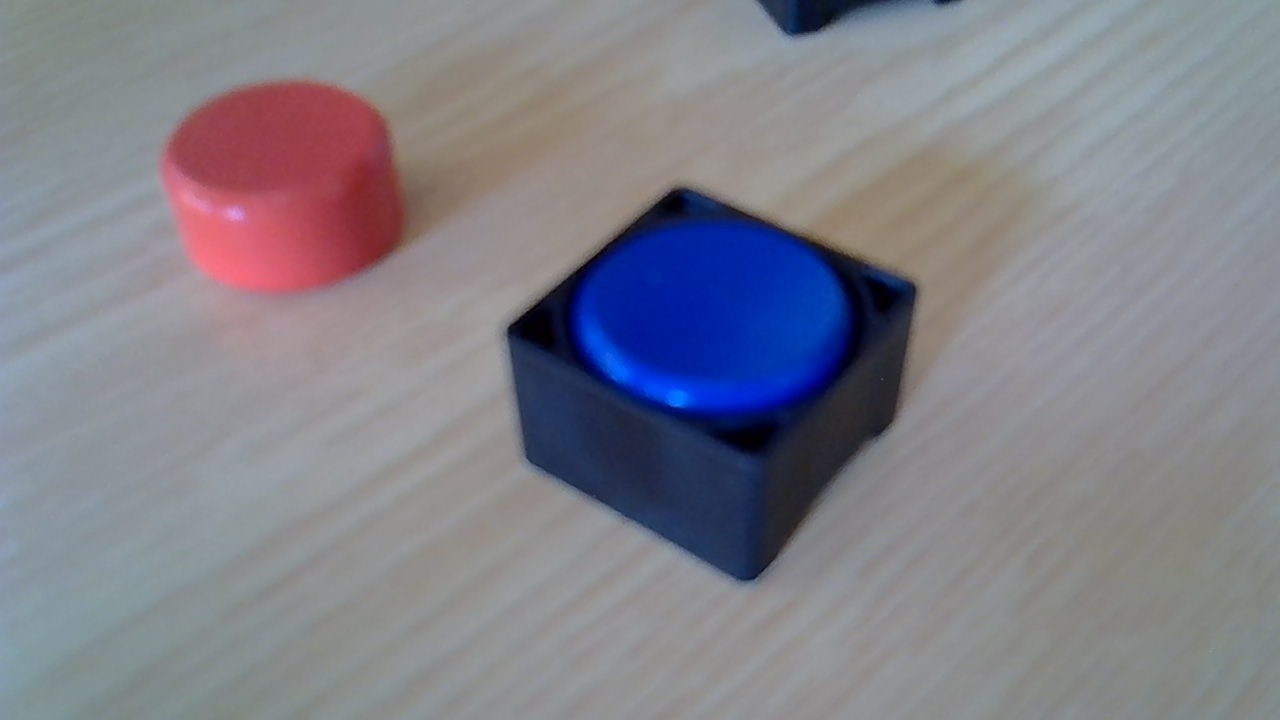Behaelter: (506, 189, 919, 595)
WerkStueck: (573, 217, 859, 421), (159, 79, 407, 291)
